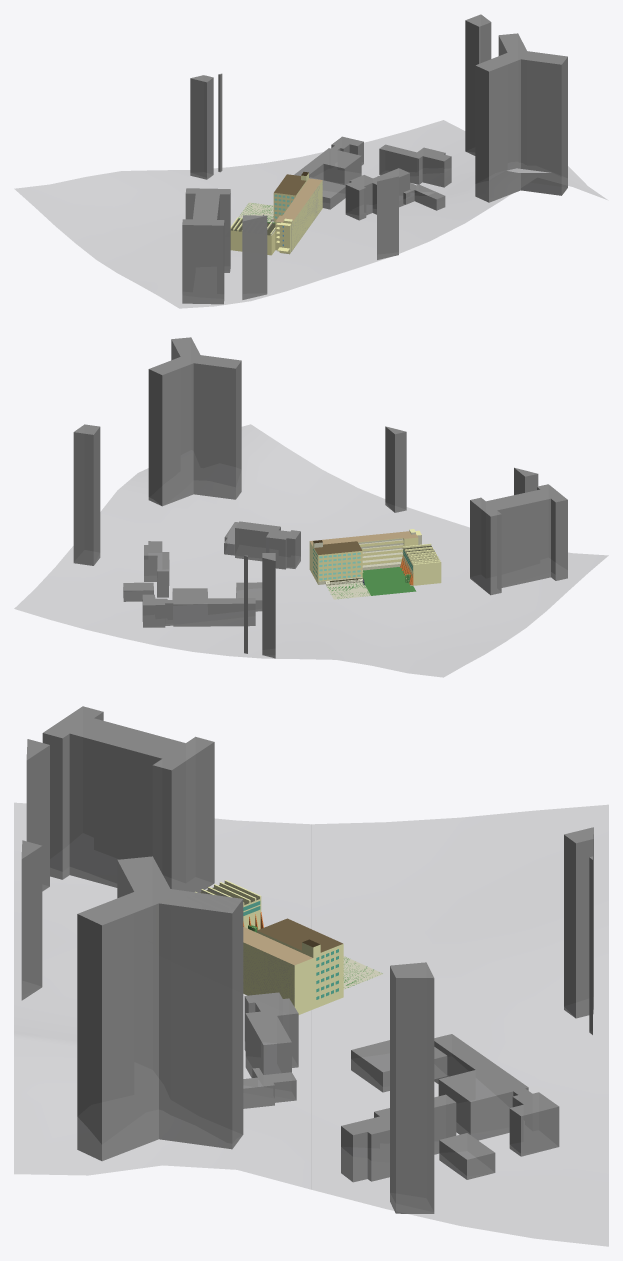
Rendered from Output_STMC_cad.dae.
The picture shows the model from 3 angles, top to bottom: view 1: azimuth 30°, elevation 25°; view 2: azimuth 150°, elevation 25°; view 3: azimuth 270°, elevation 25°; orthographic projection. The views are drawn at different scales.
Visible parts, largest first — view 1: group_85, group_14, group_4, STMC_import (×5), group_49, group_15, group_22, group_70, group_16, group_51, group_65, group_9 (+2 smaller); view 2: group_85, group_14, group_4, STMC_import (×5), group_15, group_16, group_65, group_51, group_49, group_22, group_70, group_80 (+1 smaller); view 3: group_85, group_14, group_4, group_15, STMC_import (×5), group_16, group_49, group_65, group_22, group_51, group_70, group_80 (+3 smaller).
Boxes of the visible parts, <box> form: group_85: <box>15,120,606,308</box>; group_14: <box>475,33,567,202</box>; group_4: <box>182,188,230,304</box>; STMC_import (×5): <box>230,173,322,255</box>; group_49: <box>190,75,213,179</box>; group_15: <box>465,14,491,155</box>; group_22: <box>379,144,451,187</box>; group_70: <box>242,215,267,299</box>; group_16: <box>294,136,363,184</box>; group_51: <box>377,176,398,259</box>; group_65: <box>345,168,409,220</box>; group_9: <box>403,182,445,210</box>; group_85: <box>14,424,608,677</box>; group_14: <box>148,337,241,506</box>; group_4: <box>470,484,567,595</box>; STMC_import (×5): <box>310,531,441,599</box>; group_15: <box>73,424,100,565</box>; group_16: <box>142,588,255,627</box>; group_65: <box>235,521,300,569</box>; group_51: <box>385,426,406,512</box>; group_49: <box>262,553,275,658</box>; group_22: <box>144,541,169,597</box>; group_70: <box>514,467,538,494</box>; group_80: <box>123,582,153,601</box>; group_85: <box>14,803,608,1246</box>; group_14: <box>77,856,243,1160</box>; group_4: <box>42,706,214,892</box>; group_15: <box>390,962,434,1213</box>; STMC_import (×5): <box>195,880,383,1014</box>; group_16: <box>434,1034,559,1156</box>; group_49: <box>564,827,593,1018</box>; group_65: <box>244,992,298,1077</box>; group_22: <box>341,1094,456,1182</box>; group_51: <box>21,840,42,1000</box>; group_70: <box>26,739,49,891</box>; group_80: <box>439,1133,495,1179</box>.
Size of the model in its own units: 14173 by 9449 by 5481.
